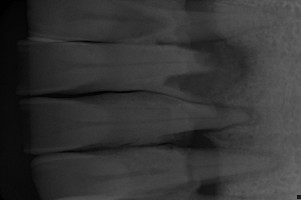Dental Caries: (164, 39, 259, 98)
